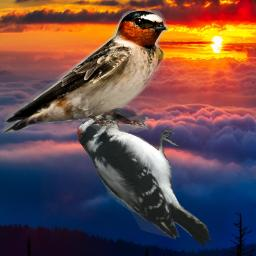Swallow: (2, 8, 169, 133)
Woodpecker: (77, 110, 211, 246)
